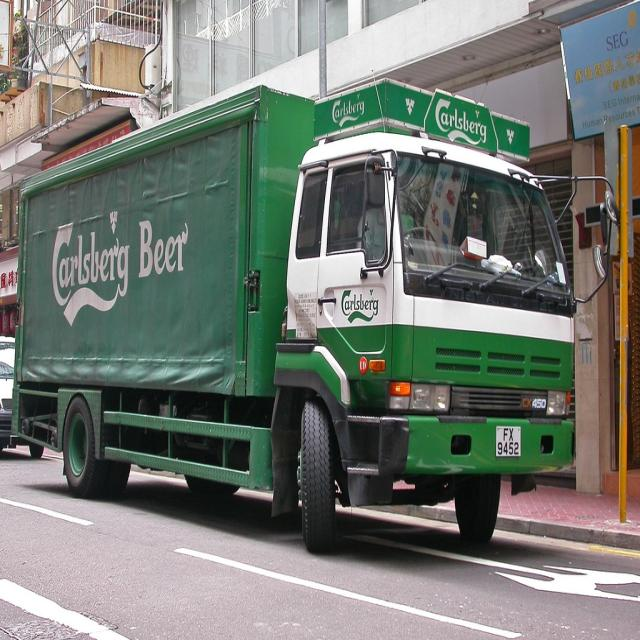carlsberg: (48, 204, 138, 330), (433, 95, 492, 148), (328, 93, 370, 127)
